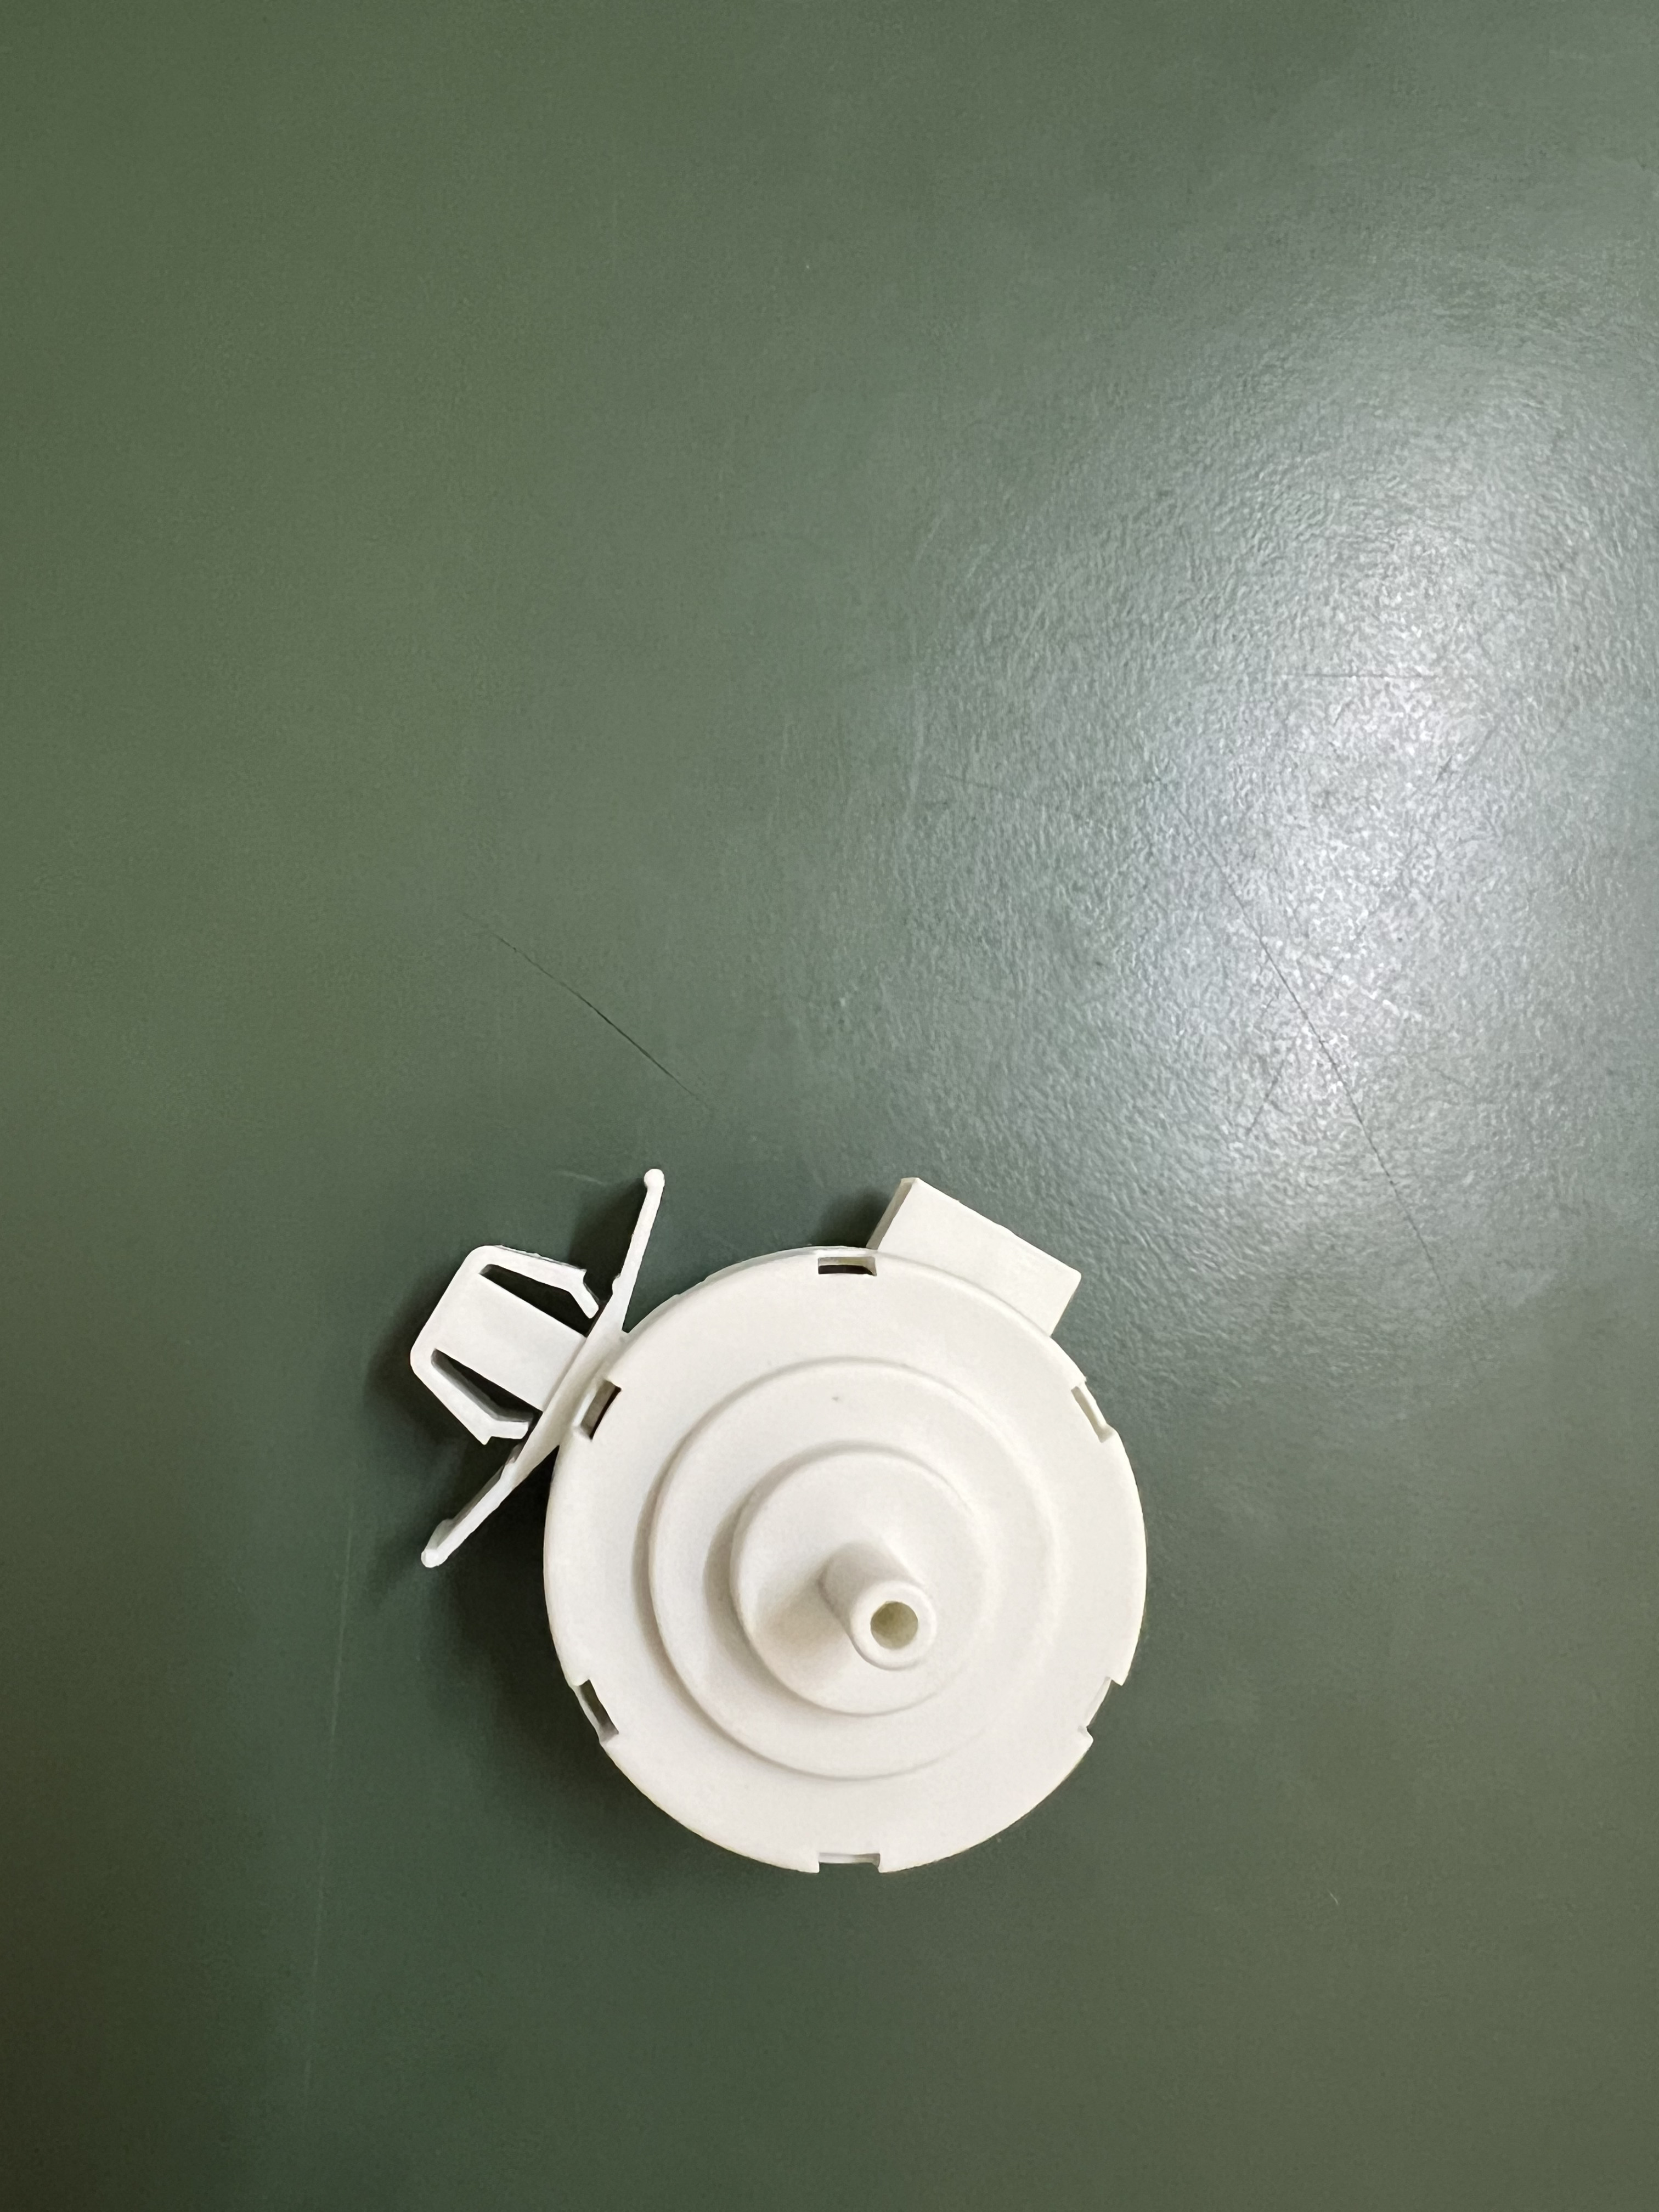pressure_switch_2: (380, 1132, 1183, 1902)
